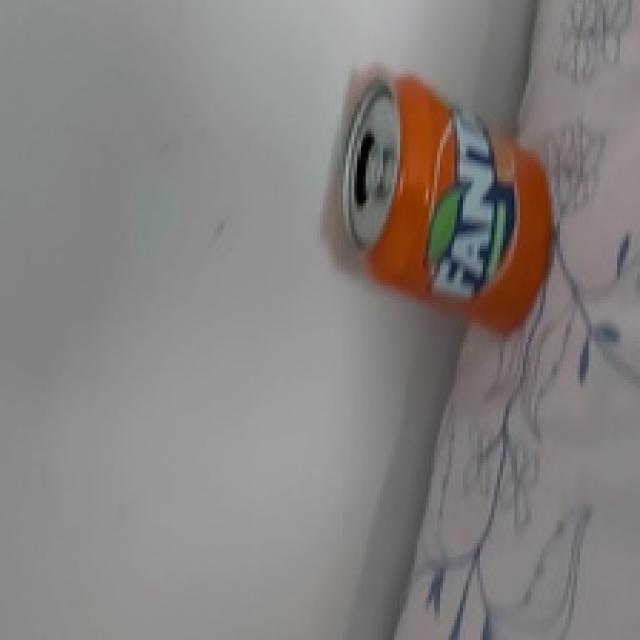recyclable: (339, 71, 558, 336)
